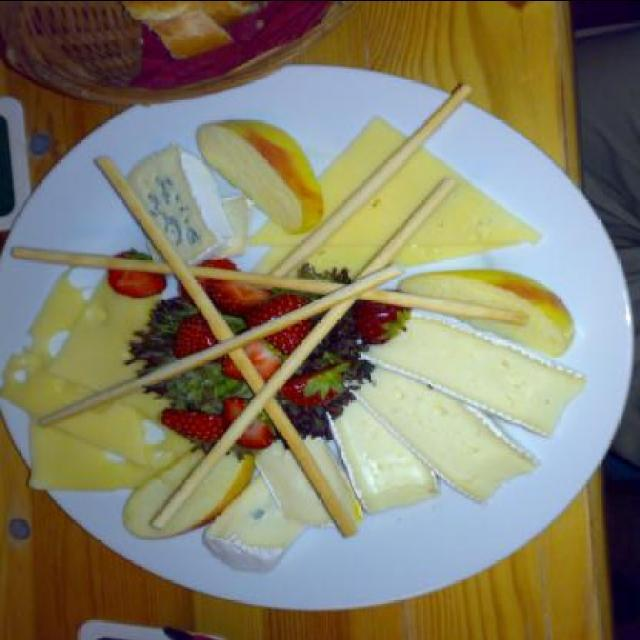Cheese: (244, 111, 540, 242), (0, 272, 191, 472), (44, 268, 162, 418), (123, 142, 235, 266), (245, 242, 537, 280), (20, 409, 152, 491), (219, 192, 261, 256)
